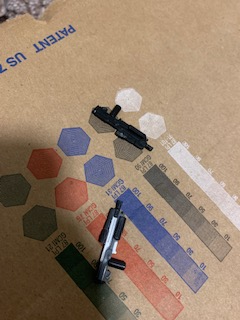rifle: (89, 100, 155, 157), (91, 198, 129, 288)
